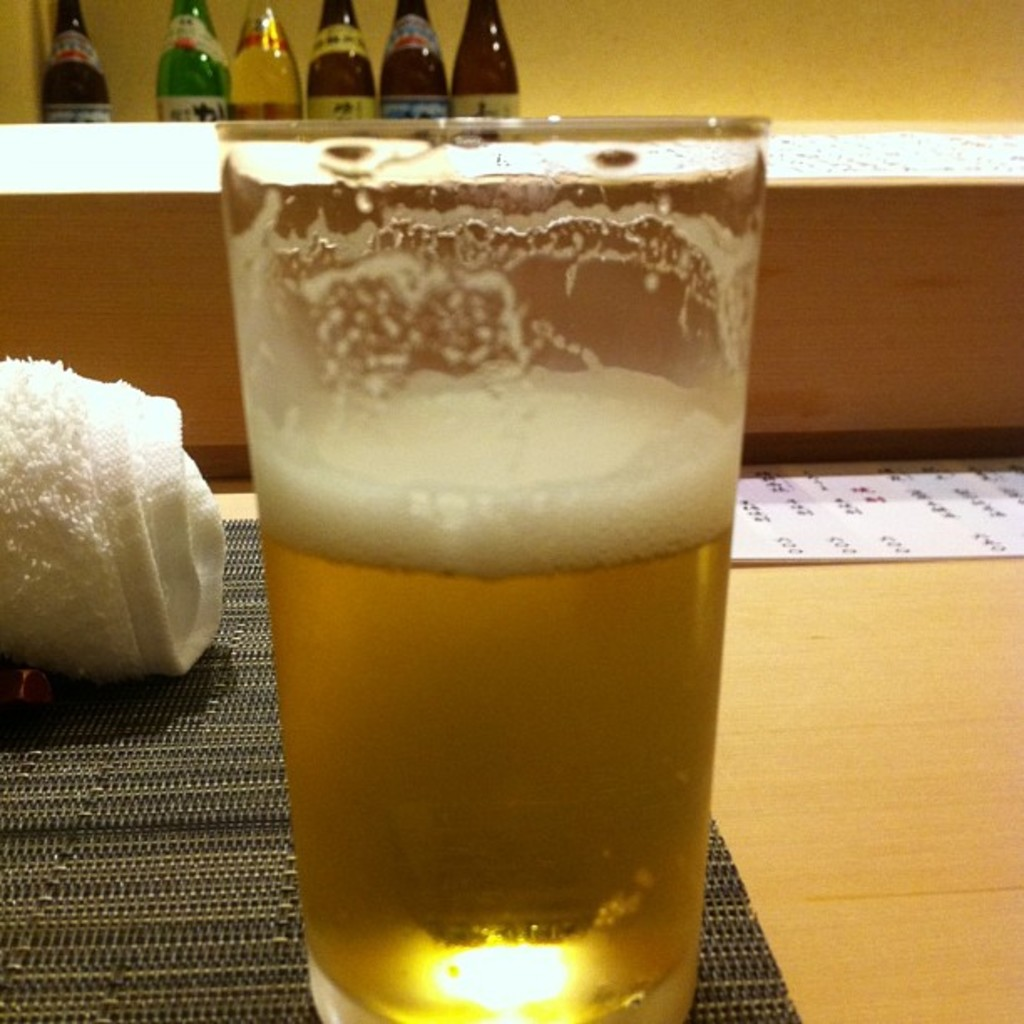Beer: (237, 418, 716, 1022), (294, 0, 381, 130), (448, 0, 528, 137), (36, 0, 122, 123), (230, 3, 297, 138), (142, 0, 217, 117), (378, 0, 443, 128)
